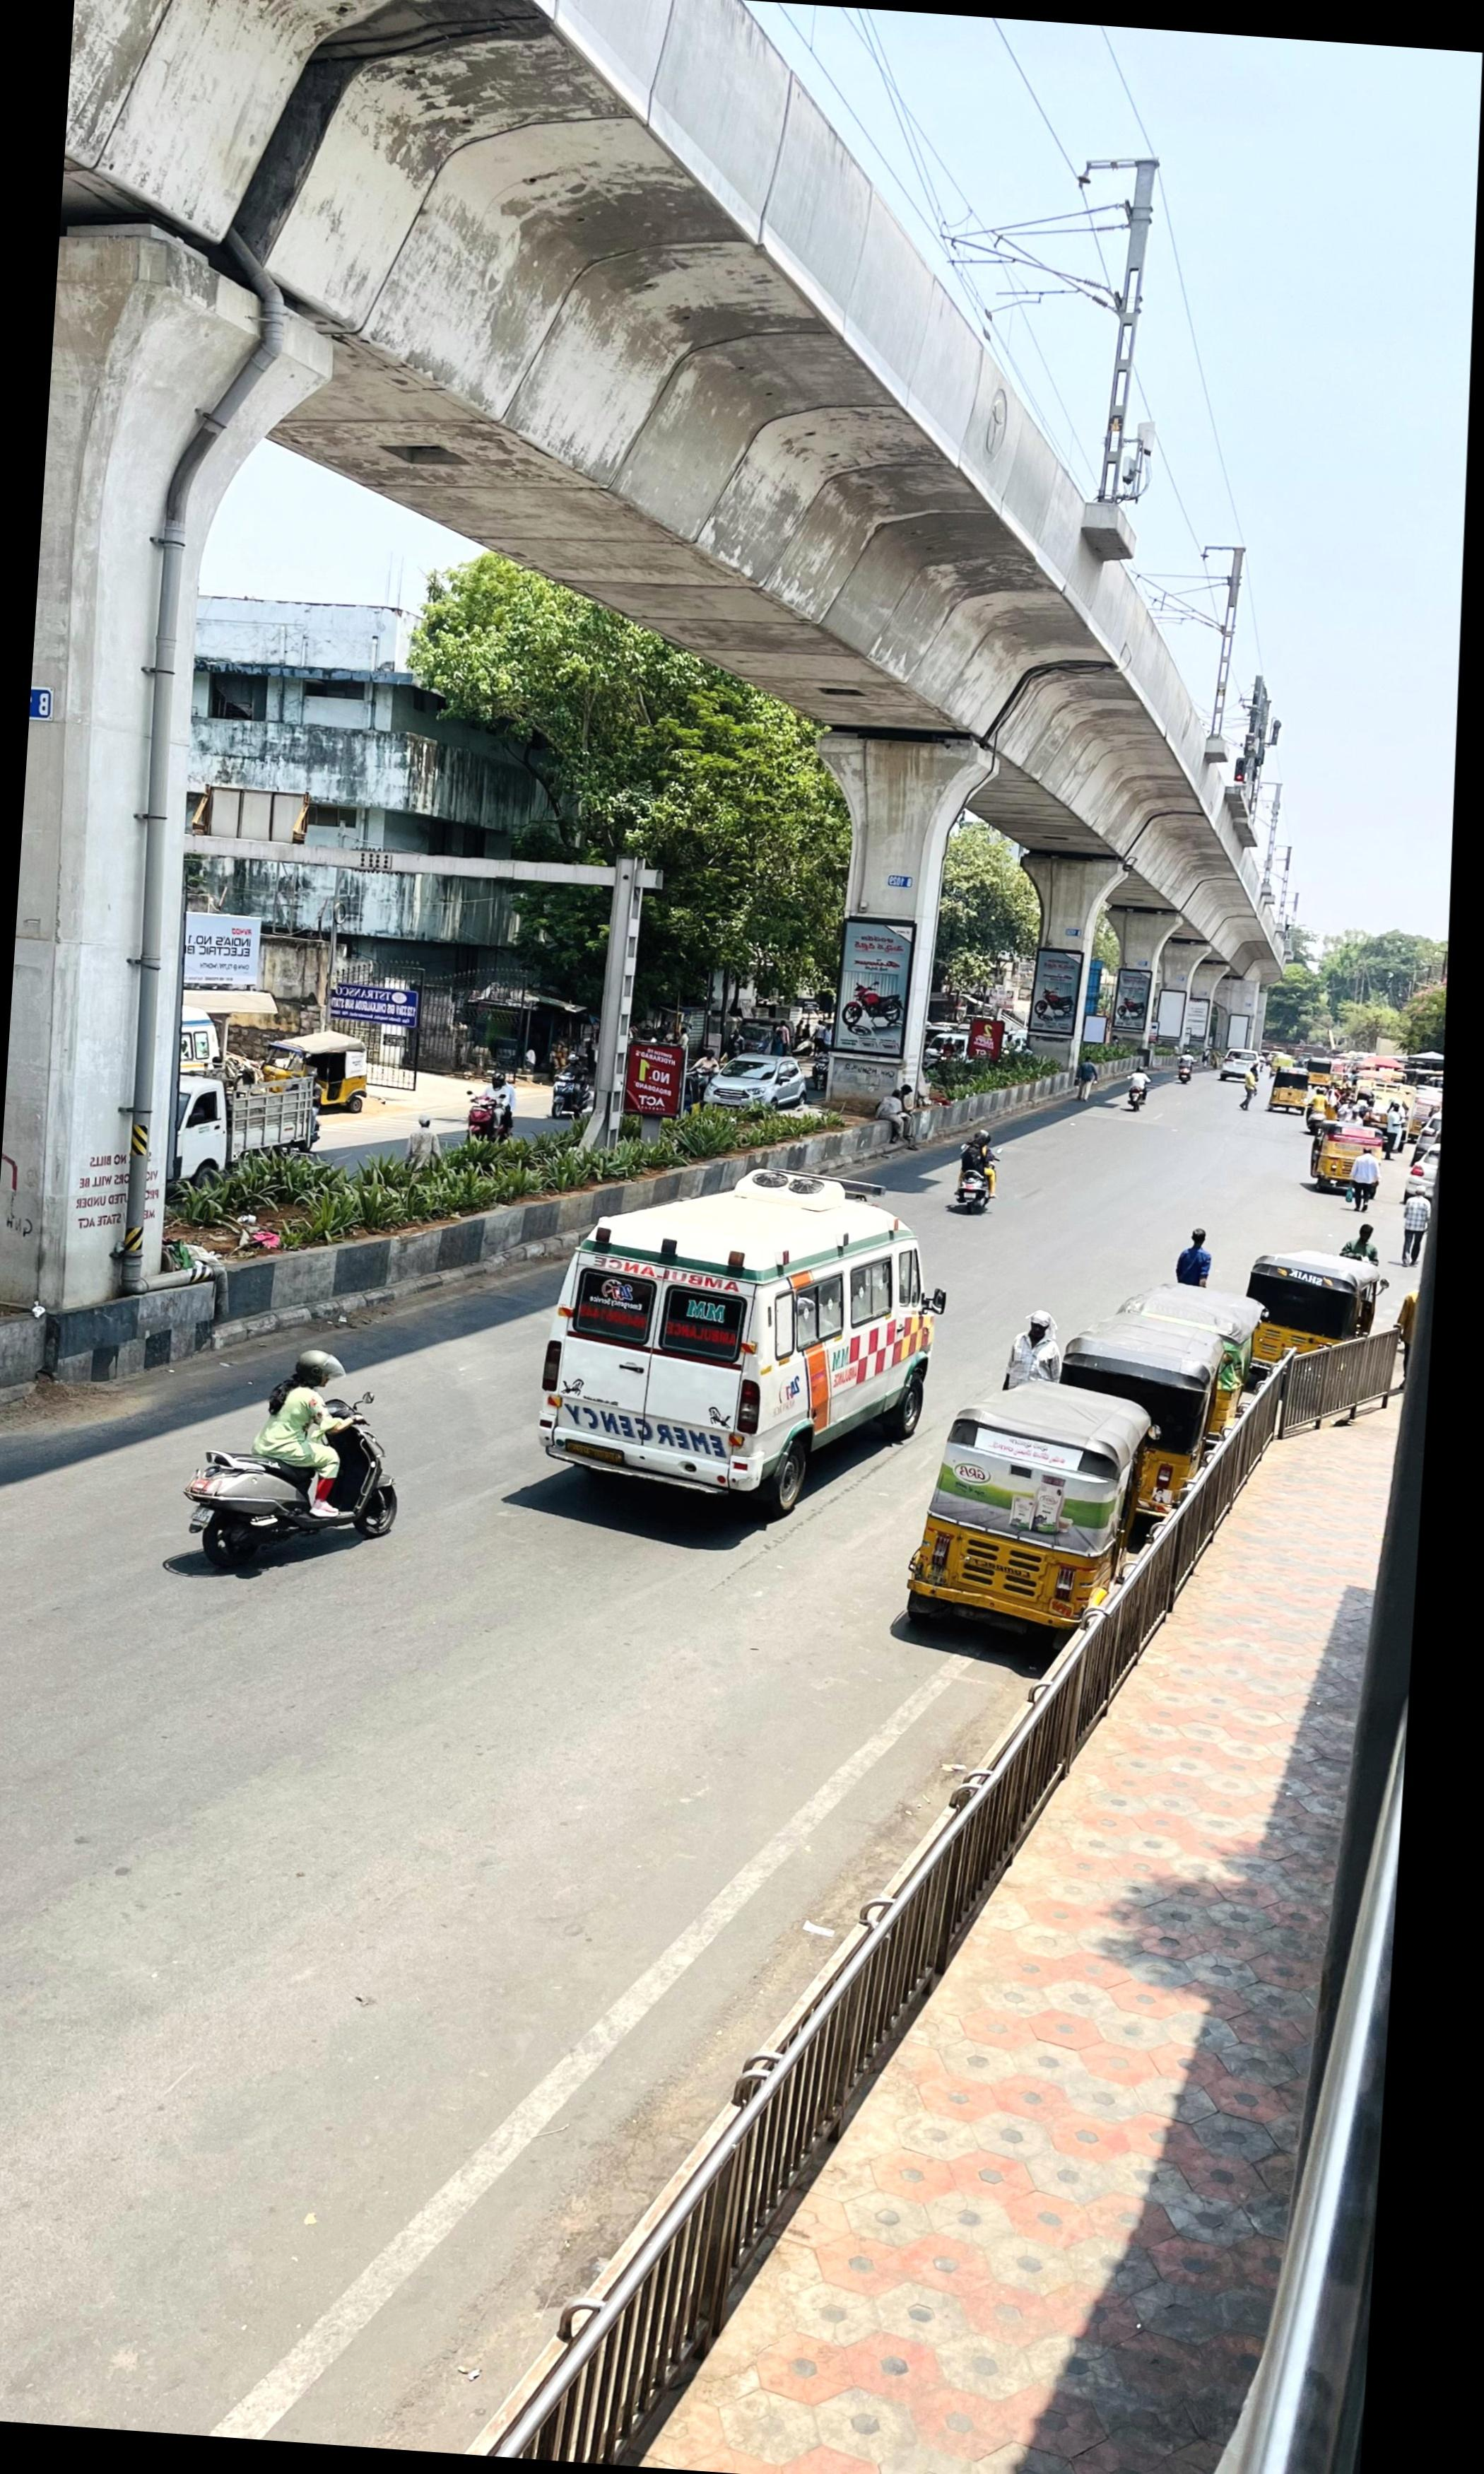ambulance: (534, 1188, 942, 1516)
